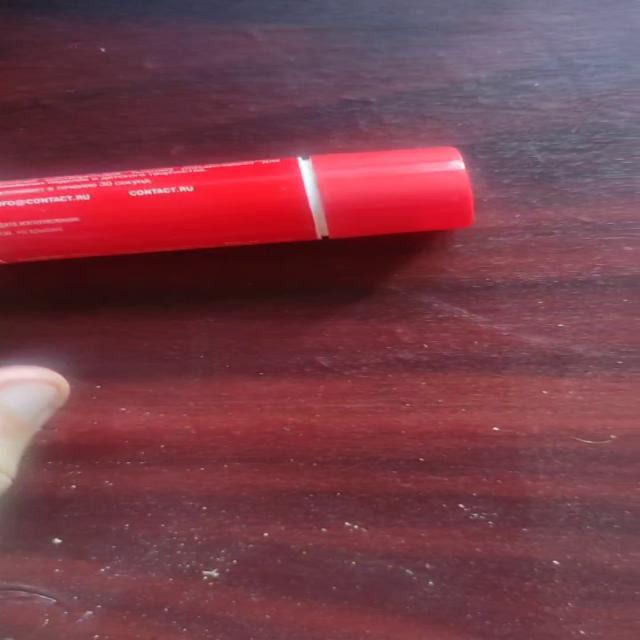glue: (1, 144, 475, 266)
